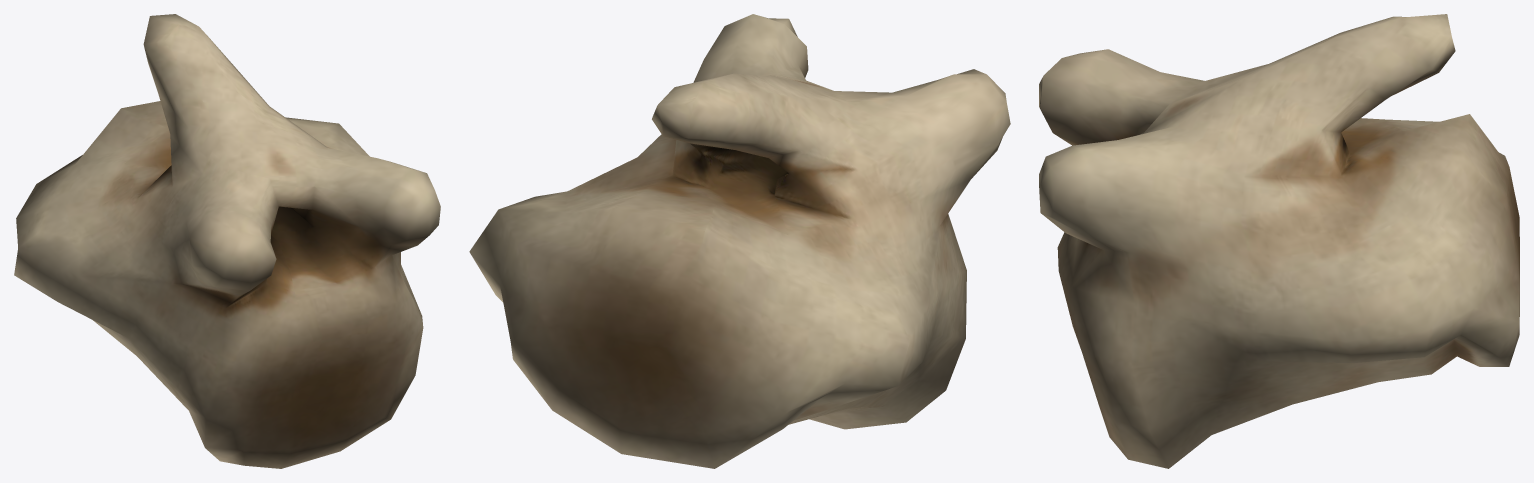
The model's file is Caudal_Vertebrae4.glb.
3 renders of one model, left to right at view 1: azimuth 30°, elevation 25°; view 2: azimuth 150°, elevation 25°; view 3: azimuth 270°, elevation 25°, orthographic. The views are drawn at different scales.
Parts seen in each view (by area): view 1: Caudal_Vertebrae_23:Group45465; view 2: Caudal_Vertebrae_23:Group45465; view 3: Caudal_Vertebrae_23:Group45465.
Boxes of the visible parts, x1,y1,x2,y2 form: Caudal_Vertebrae_23:Group45465: [14, 14, 440, 468]; Caudal_Vertebrae_23:Group45465: [469, 14, 1010, 468]; Caudal_Vertebrae_23:Group45465: [1039, 14, 1519, 468].
Size of the model in its own units: 13.67 by 13.16 by 13.75.
1 material, 1 textured.
